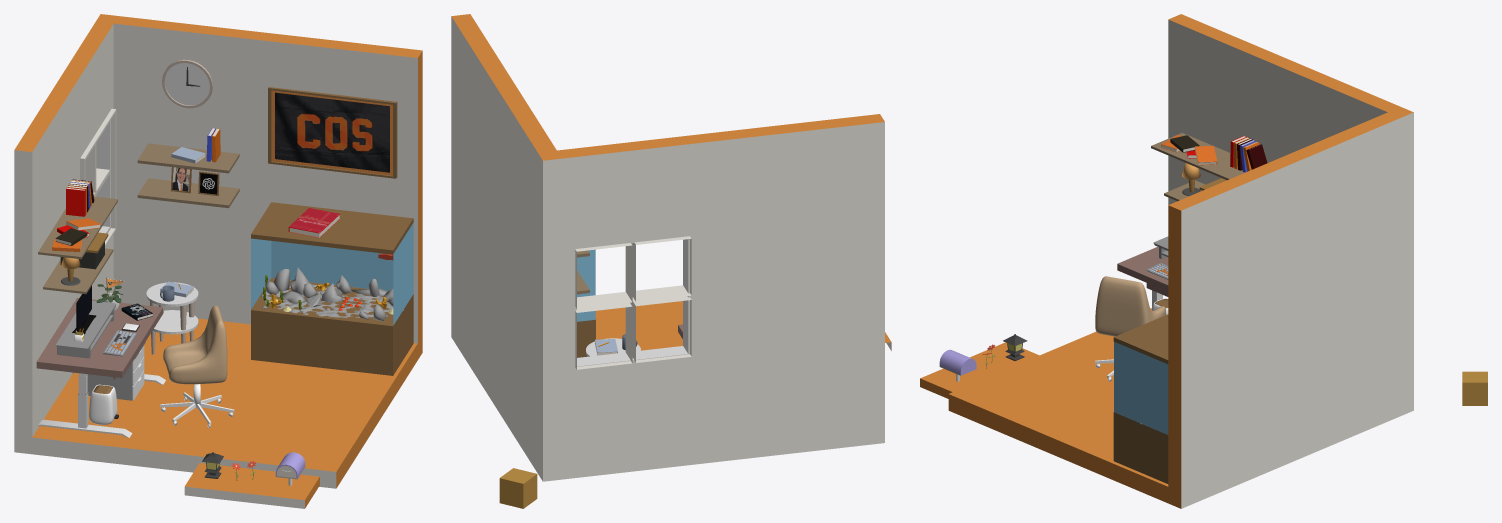
The model's file is house13.glb.
The picture shows the model from 3 angles, left to right: view 1: azimuth 30°, elevation 25°; view 2: azimuth 150°, elevation 25°; view 3: azimuth 270°, elevation 25°; orthographic projection. The views are drawn at different scales.
Parts seen in each view (by area): view 1: Room, fish tank, cos, Table Base, Shelf 1, Shelf 2, Garden Floor, Chair seat, Desk Content, Stool, Clock, cos226 (+3 smaller); view 2: Room, fish tank, cubicle, Stool; view 3: Room, fish tank, Shelf 1, Chair seat, Garden Floor, Table Base, cubicle, Mailbox.
Boxes of the visible parts, x1=… form: Room: x1=14, y1=14, x2=422, y2=488; fish tank: x1=251, y1=202, x2=413, y2=375; cos: x1=268, y1=87, x2=397, y2=178; Table Base: x1=36, y1=297, x2=165, y2=437; Shelf 1: x1=38, y1=179, x2=117, y2=293; Shelf 2: x1=137, y1=128, x2=239, y2=208; Garden Floor: x1=184, y1=463, x2=319, y2=508; Chair seat: x1=163, y1=305, x2=227, y2=384; Desk Content: x1=55, y1=284, x2=139, y2=358; Stool: x1=146, y1=281, x2=198, y2=354; Clock: x1=162, y1=59, x2=212, y2=108; cos226: x1=288, y1=208, x2=339, y2=237; Room: x1=451, y1=14, x2=884, y2=481; fish tank: x1=577, y1=249, x2=595, y2=357; cubicle: x1=499, y1=468, x2=537, y2=508; Stool: x1=586, y1=334, x2=640, y2=356; Room: x1=948, y1=14, x2=1413, y2=508; fish tank: x1=1113, y1=314, x2=1168, y2=483; Shelf 1: x1=1151, y1=132, x2=1267, y2=201; Chair seat: x1=1095, y1=276, x2=1166, y2=336; Garden Floor: x1=920, y1=342, x2=1039, y2=398; Table Base: x1=1117, y1=246, x2=1168, y2=314; cubicle: x1=1462, y1=371, x2=1487, y2=405; Mailbox: x1=939, y1=349, x2=976, y2=381.
Bounding box in the file's own units: 23.29 × 16.47 × 28.41.
Materials: 92 (7 with a texture image).
